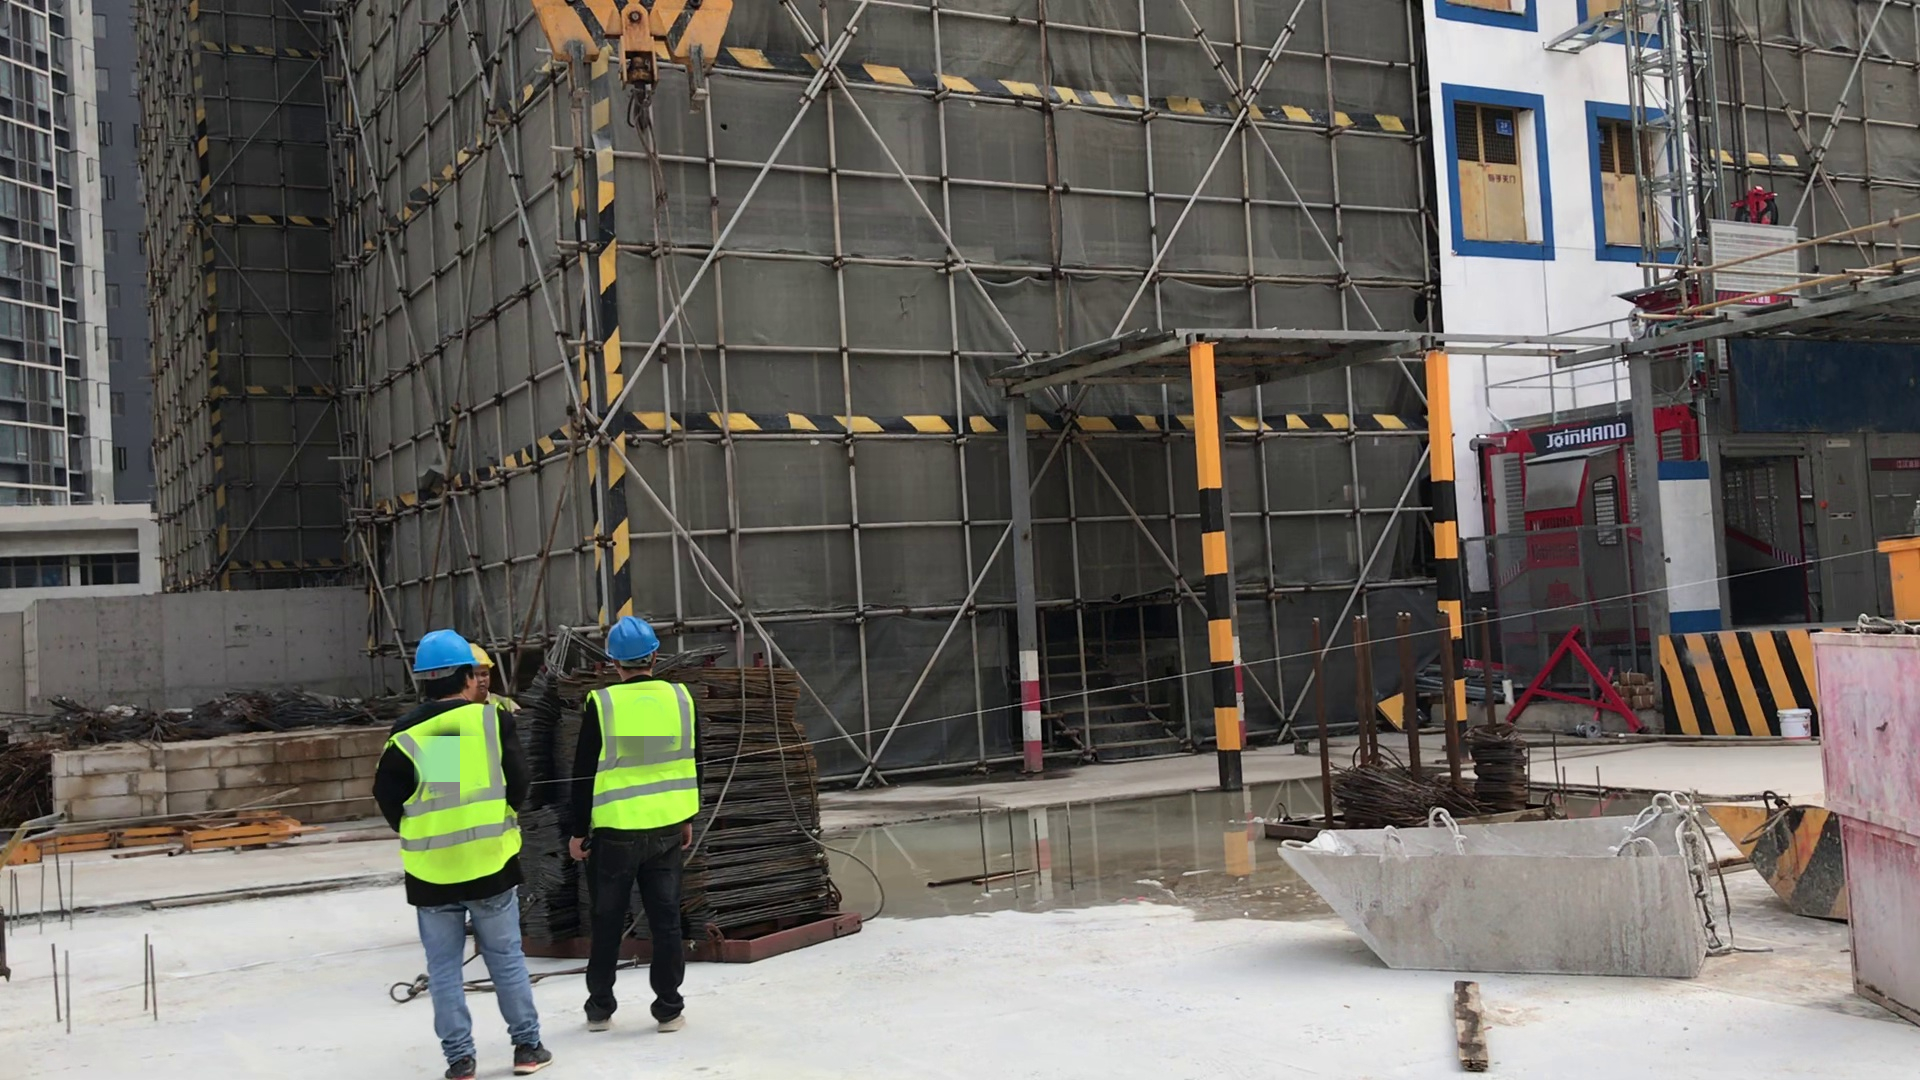helmet: (413, 626, 470, 673), (601, 619, 662, 661)
hook: (528, 1, 733, 133)
hopper: (1297, 819, 1724, 969), (1721, 793, 1855, 919)
person: (371, 627, 550, 1080), (569, 616, 701, 1035)
rebar: (689, 673, 832, 935)
vest: (397, 704, 523, 888), (593, 683, 698, 834)
